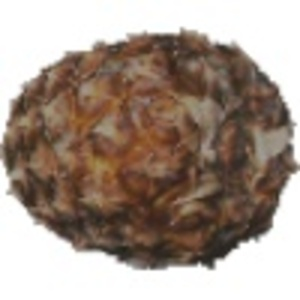abacaxi: (3, 24, 294, 267)
